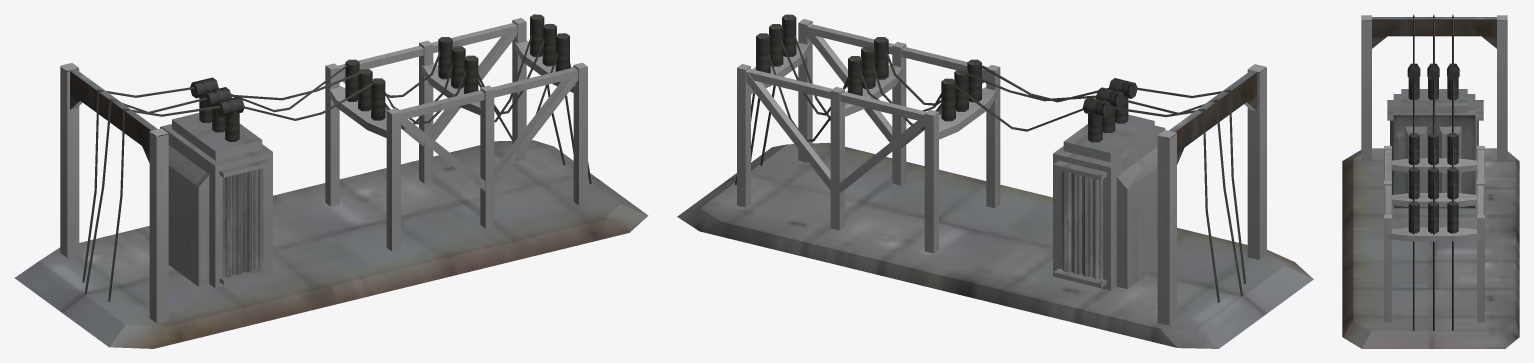
File: ind-substation.zfix-v14.lod1.glb
3 views of the same model, side by side, from view 1: azimuth 30°, elevation 25°; view 2: azimuth 150°, elevation 25°; view 3: azimuth 270°, elevation 25° (orthographic). The views are drawn at different scales.
Parts seen in each view (by area): view 1: Industrial_TsrStation_1_Industrial_Walls_FLR_1_0; view 2: Industrial_TsrStation_1_Industrial_Walls_FLR_1_0; view 3: Industrial_TsrStation_1_Industrial_Walls_FLR_1_0.
Boxes of the visible parts, bbox=[...] form: Industrial_TsrStation_1_Industrial_Walls_FLR_1_0: bbox=[15, 14, 648, 348]; Industrial_TsrStation_1_Industrial_Walls_FLR_1_0: bbox=[677, 14, 1313, 348]; Industrial_TsrStation_1_Industrial_Walls_FLR_1_0: bbox=[1342, 14, 1519, 348].
Size of the model in its own units: 11.8 by 4.23 by 4.43.
Materials: 1 (1 with a texture image).
